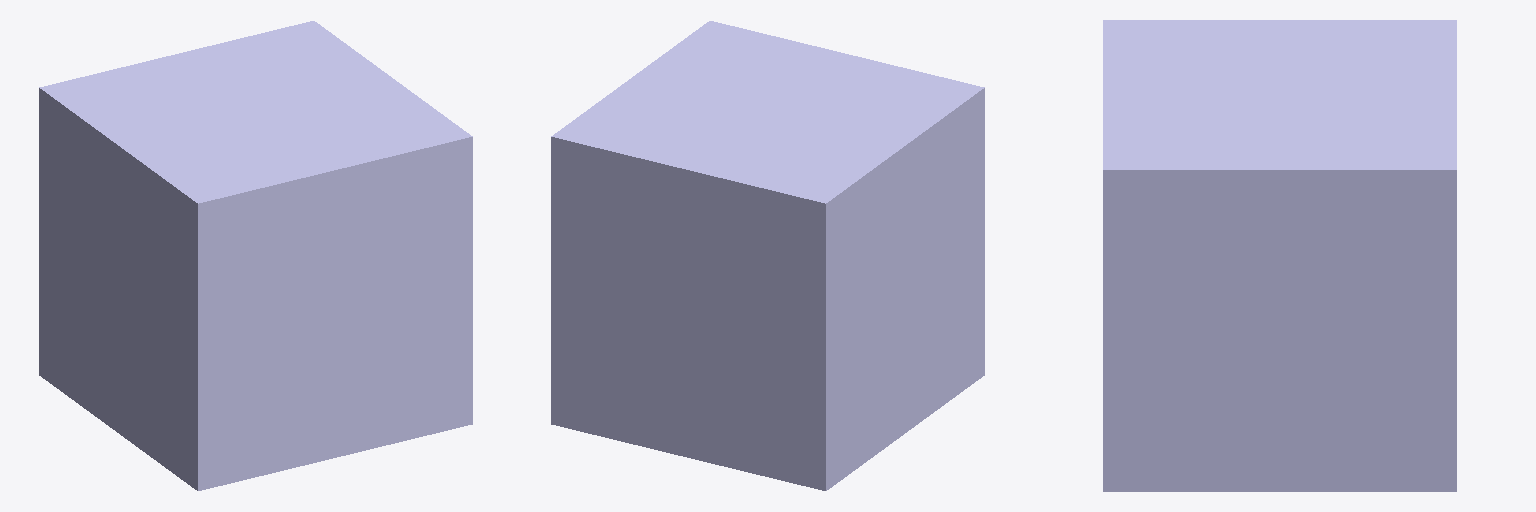
URDF robot description (Cuboid):
<?xml version="1.0"?>
<robot name="Cuboid">
    <link name="robot_base">
        <inertial>
            <origin rpy="3.141592 3.141615 3.141593" xyz="0.350000 -0.075000 0.062000" />
            <inertia izz="6.6666660131887e-05" ixz="-2.0679515313826e-25" ixy="2.0608991148899e-29" iyz="0.0" ixx="6.6666660131887e-05" iyy="6.6666660131887e-05" />
            <mass value="1.0" />
        </inertial>
        <collision name="Cuboid">
            <origin xyz="0.350000 -0.075000 0.011876" rpy="3.141592 3.141615 3.141593" />
            <geometry>
                <box size="0.020000 0.020000 0.020000" />
            </geometry>
        </collision>
        <visual name="Cuboid">
            <origin xyz="0.350000 -0.075000 0.011876" rpy="3.141592 3.141615 3.141593" />
            <geometry>
                <box size="0.020000 0.020000 0.020000" />
            </geometry>
            <material name="robot_base_material">
                <color rgba="0.850000 0.850000 1.000000 1.0" />
            </material>
        </visual>
    </link>
</robot>

--- What the picture shows (computed from the rendered views, not written in the file) ---
3 views of the same robot in one strip: view 1: azimuth 30°, elevation 25°; view 2: azimuth 150°, elevation 25°; view 3: azimuth 270°, elevation 25° (orthographic).
Model Cuboid with 1 links and 0 joints (none), rooted at robot_base, posed all joints at 0.
Links seen in each view (by area): view 1: robot_base; view 2: robot_base; view 3: robot_base.
Link boxes in pixels (left/top/right/bottom): robot_base: left=39, top=21, right=472, bottom=490; robot_base: left=551, top=21, right=984, bottom=490; robot_base: left=1103, top=20, right=1456, bottom=491.
Size in the robot's own frame: 0.02 by 0.02 by 0.02 metres.
Geometry: primitives only (box / cylinder / sphere), no mesh files.
